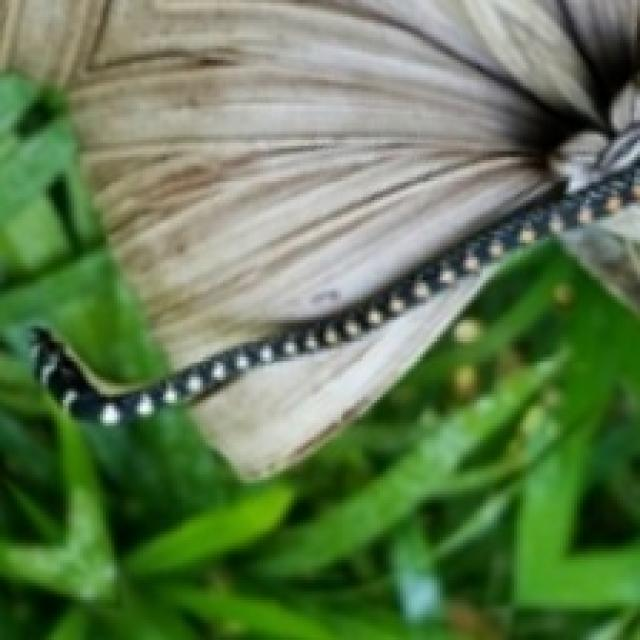paradise tree snake: (32, 162, 640, 426)
